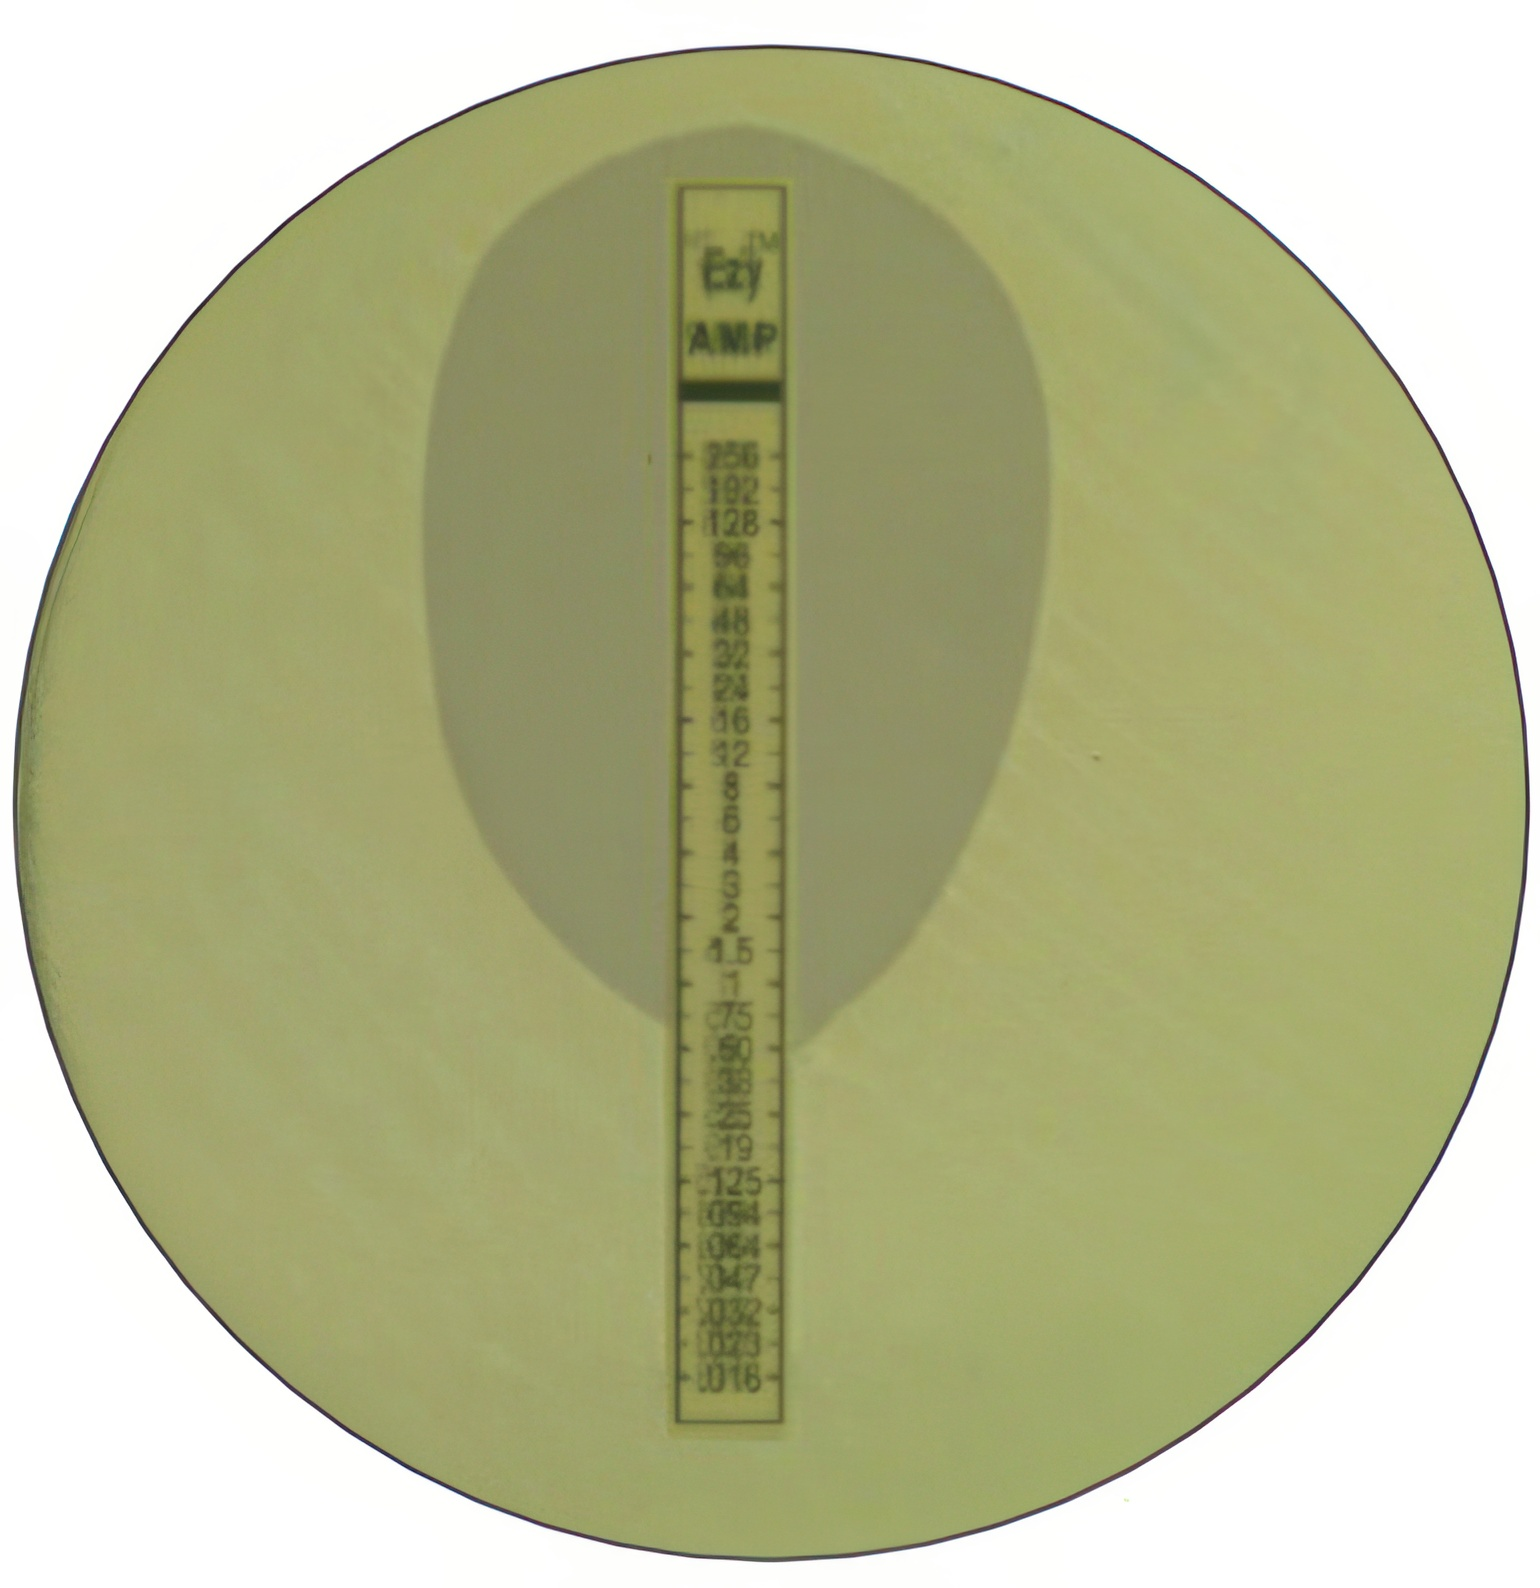line: (661, 172, 797, 1439)
zone: (421, 122, 1049, 1025)
